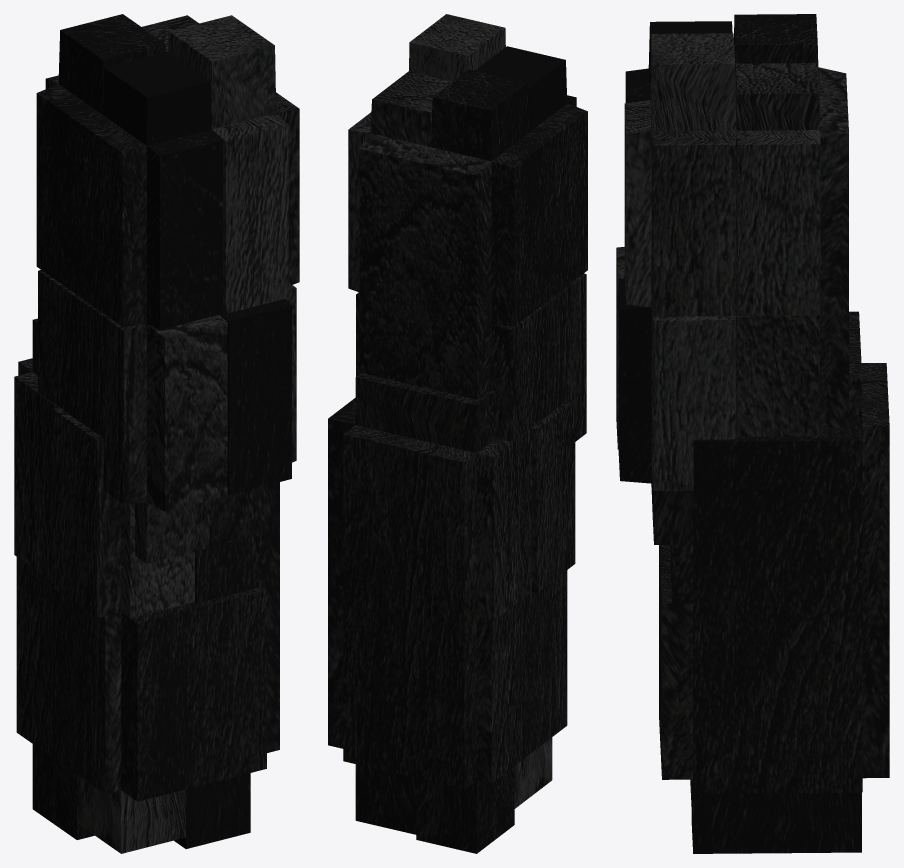
The model's file is yes.fbx.
3 renders of one model, left to right at view 1: azimuth 30°, elevation 25°; view 2: azimuth 150°, elevation 25°; view 3: azimuth 270°, elevation 25°, orthographic. The views are drawn at different scales.
Visible parts, largest first — view 1: discombobulated_mesh.001; view 2: discombobulated_mesh.001; view 3: discombobulated_mesh.001.
Boxes of the visible parts, box(x1,y1,x2,y2) form: discombobulated_mesh.001: box(14, 14, 299, 853); discombobulated_mesh.001: box(328, 14, 587, 853); discombobulated_mesh.001: box(616, 14, 889, 853).
Bounding box in the file's own units: 994 × 4108 × 1277.
1 material, 1 textured.
